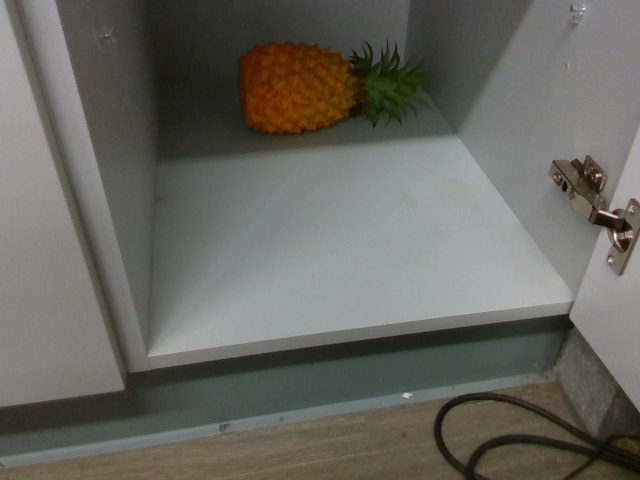pineapple: (234, 40, 426, 135)
